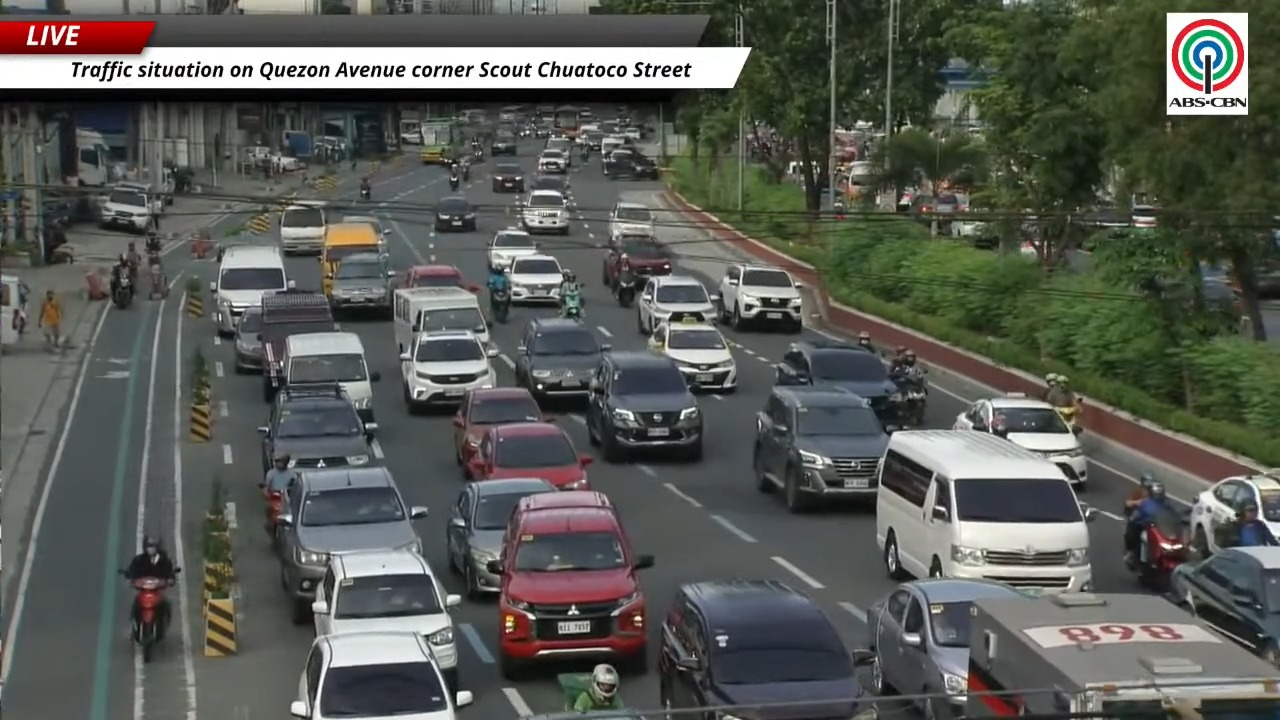bus: (554, 105, 579, 138)
car: (487, 491, 653, 678), (658, 579, 873, 719), (273, 467, 426, 623), (867, 578, 1024, 717), (312, 550, 461, 689), (753, 386, 888, 512), (290, 632, 472, 719), (446, 478, 557, 598), (585, 352, 702, 462), (953, 394, 1087, 489), (1170, 548, 1279, 664), (774, 340, 902, 426), (258, 382, 376, 472), (464, 423, 592, 489), (514, 317, 609, 401), (400, 330, 497, 412), (1189, 473, 1279, 556), (453, 387, 546, 466), (648, 315, 737, 392), (719, 264, 802, 333), (636, 275, 718, 334), (329, 252, 394, 314), (602, 234, 672, 288), (508, 254, 563, 303), (100, 187, 153, 233), (395, 264, 479, 292), (519, 190, 569, 234), (488, 228, 539, 268), (234, 305, 263, 373), (341, 215, 390, 251), (609, 202, 655, 237), (434, 196, 476, 232), (538, 136, 572, 172), (528, 174, 570, 200), (601, 148, 635, 179), (491, 163, 523, 192), (631, 149, 660, 179), (537, 148, 568, 173), (490, 131, 517, 156), (622, 126, 642, 141)
motorcycle: (1127, 511, 1188, 591), (129, 577, 170, 662), (897, 367, 927, 428), (261, 484, 283, 539), (613, 273, 639, 307), (112, 275, 134, 310), (490, 289, 510, 323), (1055, 404, 1080, 430), (560, 294, 582, 319), (145, 234, 162, 255), (472, 147, 485, 163), (360, 185, 370, 201), (449, 175, 459, 191), (461, 164, 470, 180), (580, 146, 589, 162)
truck: (963, 593, 1279, 719), (259, 288, 336, 402), (68, 127, 112, 186), (419, 118, 458, 164)
